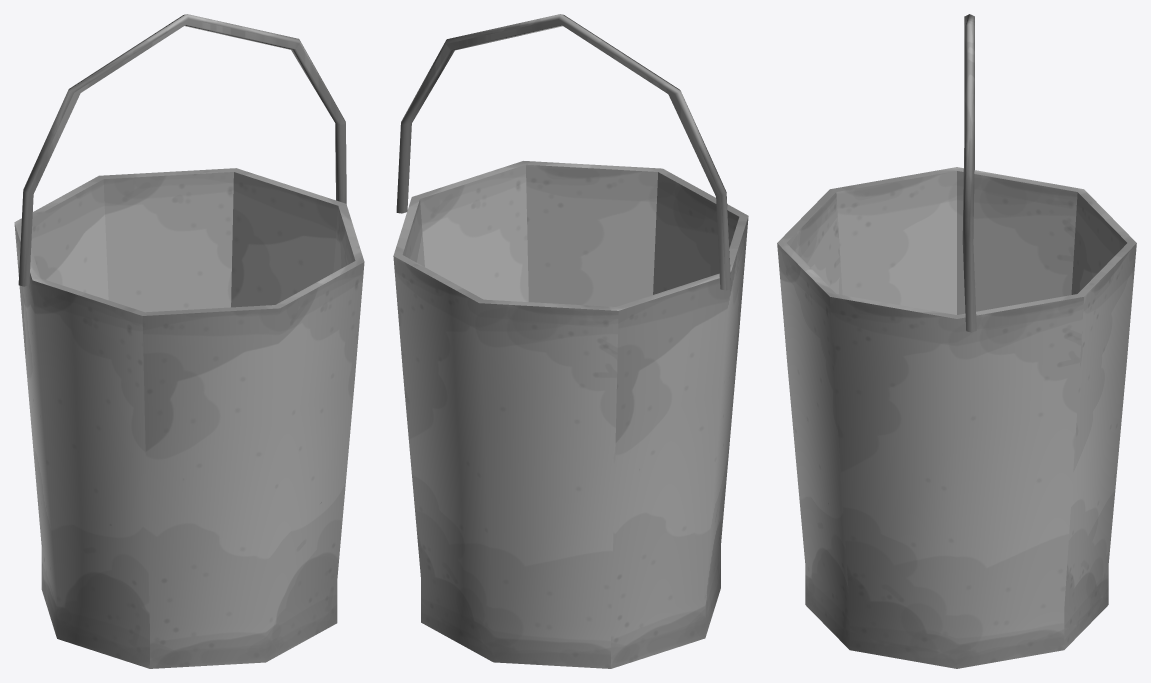
File: bucket.FBX
3 renders of one model, left to right at view 1: azimuth 30°, elevation 25°; view 2: azimuth 150°, elevation 25°; view 3: azimuth 270°, elevation 25°, orthographic. The views are drawn at different scales.
Parts seen in each view (by area): view 1: bucket001, bucket002; view 2: bucket001, bucket002; view 3: bucket001, bucket002.
Boxes of the visible parts, x1=… form: bucket001: x1=14, y1=168, x2=364, y2=668; bucket002: x1=18, y1=14, x2=346, y2=286; bucket001: x1=393, y1=161, x2=748, y2=668; bucket002: x1=396, y1=14, x2=731, y2=290; bucket001: x1=777, y1=167, x2=1136, y2=668; bucket002: x1=962, y1=14, x2=976, y2=332.
Size of the model in its own units: 0.3618 by 0.6167 by 0.3452.
Materials: 2 (2 with a texture image).
